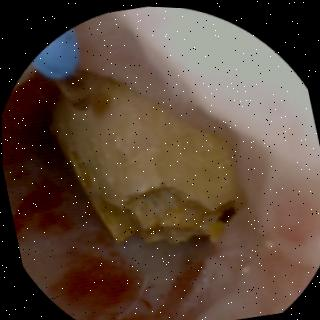fiber: (32, 30, 76, 78)
stone: (49, 71, 244, 242)
tissue: (1, 7, 320, 320)
